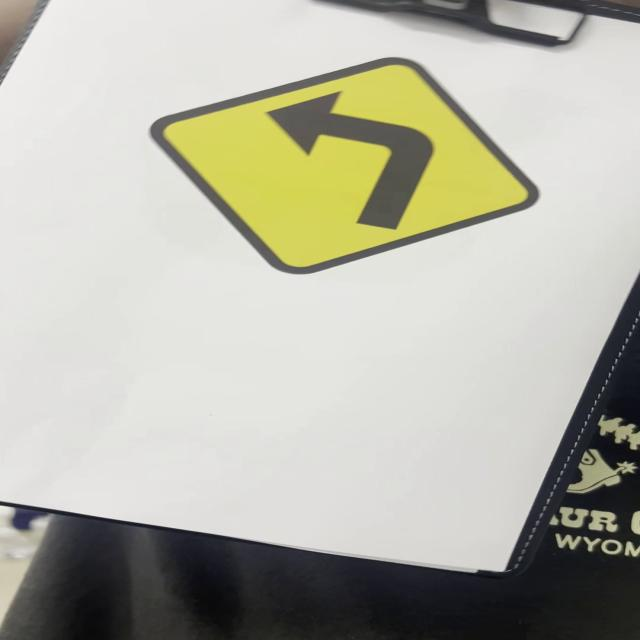left: (149, 56, 540, 277)
